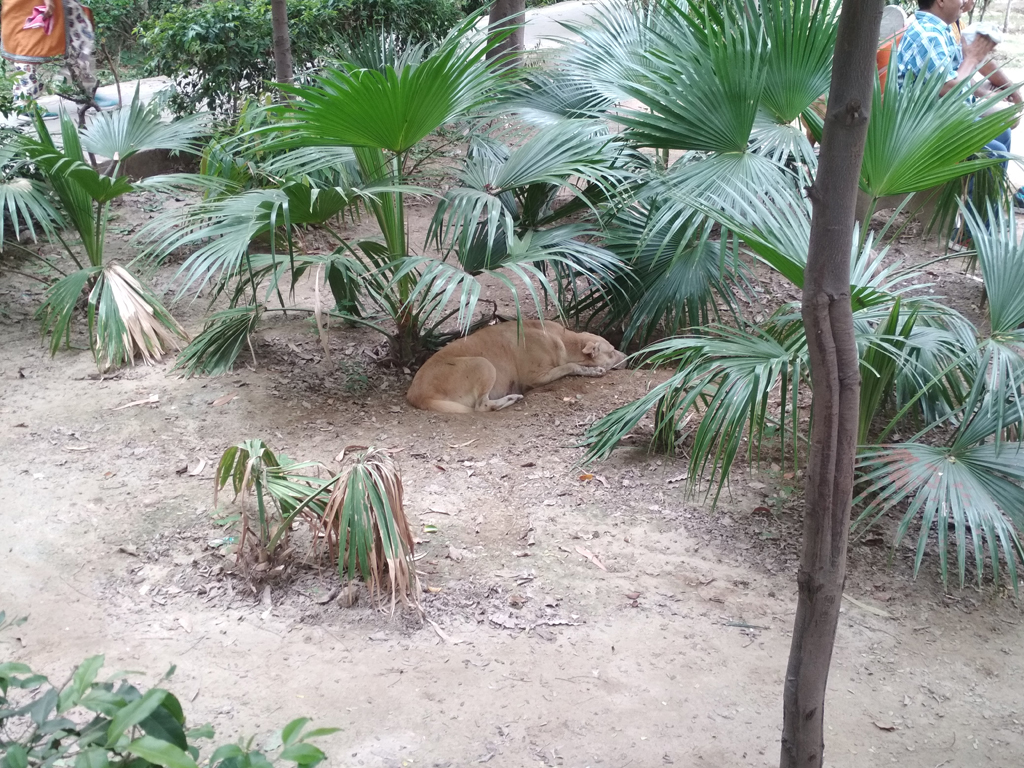dog: (406, 318, 630, 415)
